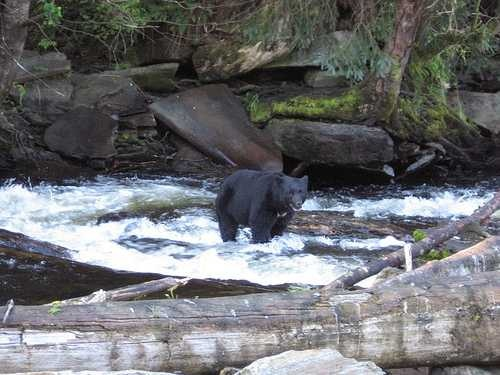bear: (202, 139, 330, 267)
